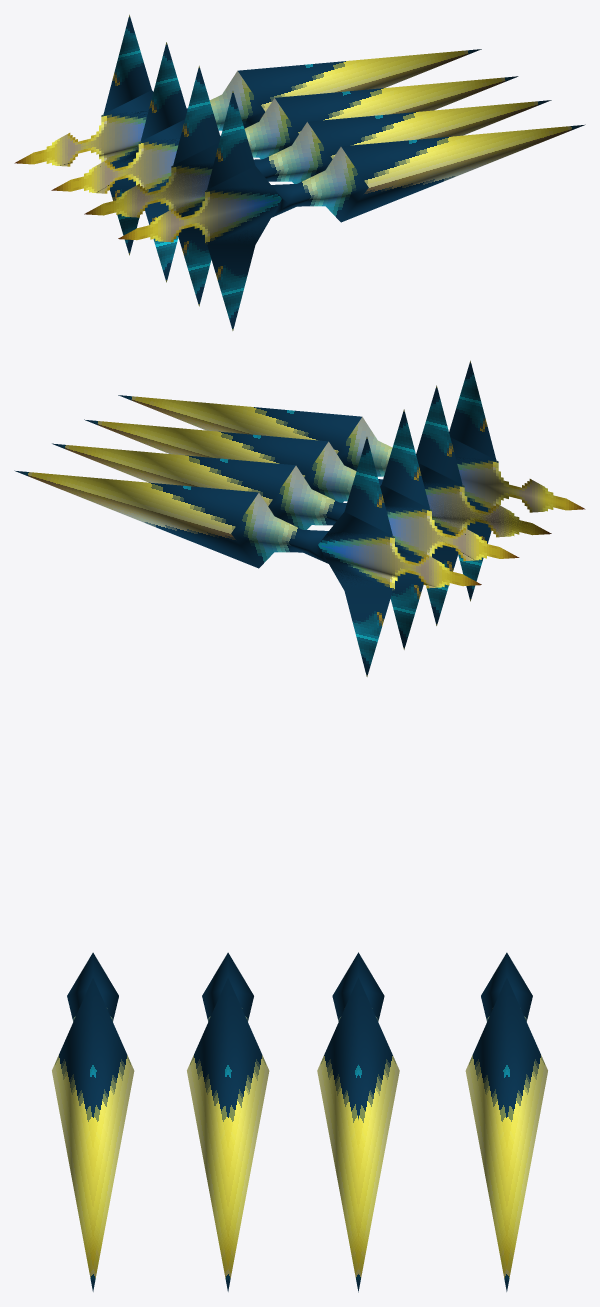
File: foudre.obj
3 views of the same model, one above another, from view 1: azimuth 30°, elevation 25°; view 2: azimuth 150°, elevation 25°; view 3: azimuth 270°, elevation 25° (orthographic). The views are drawn at different scales.
Visible parts, largest first — view 1: mesh; view 2: mesh; view 3: mesh.
Part boxes in pixels (bbox=[...]): mesh: bbox=[14, 14, 585, 330]; mesh: bbox=[14, 360, 585, 676]; mesh: bbox=[52, 952, 547, 1292].
Size of the model in its own units: 18.97 by 9.35 by 8.7.
